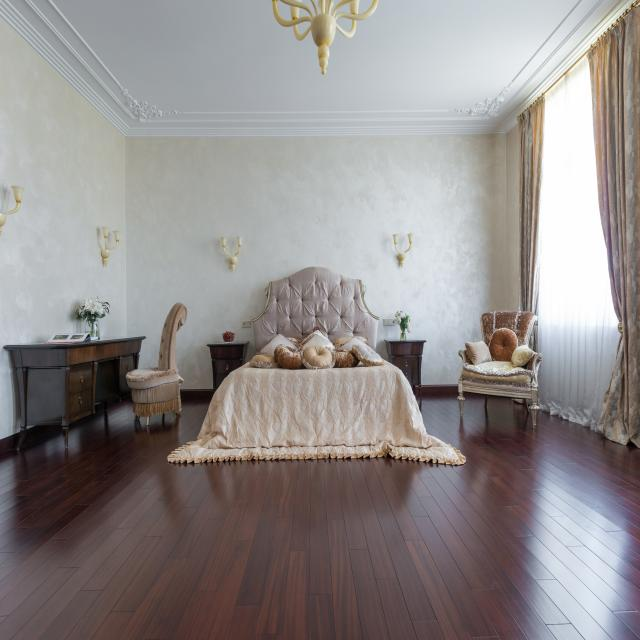floor: (0, 393, 640, 640)
wall: (125, 125, 507, 399)
